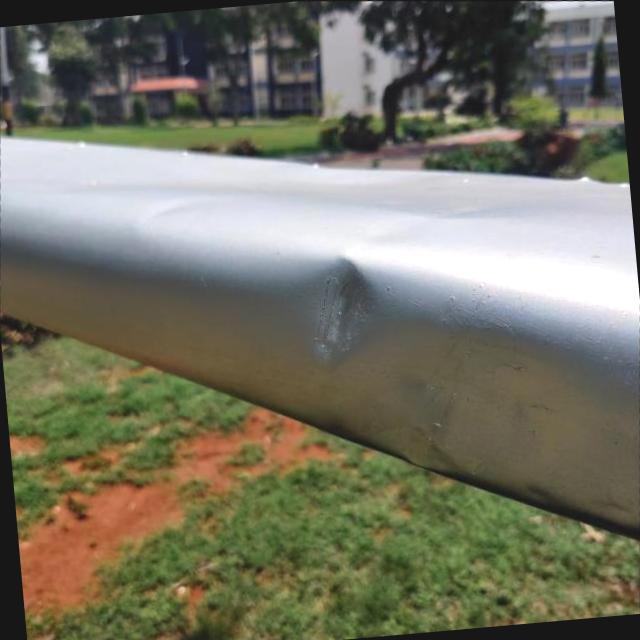dent: (310, 296, 628, 547), (294, 252, 396, 372)
